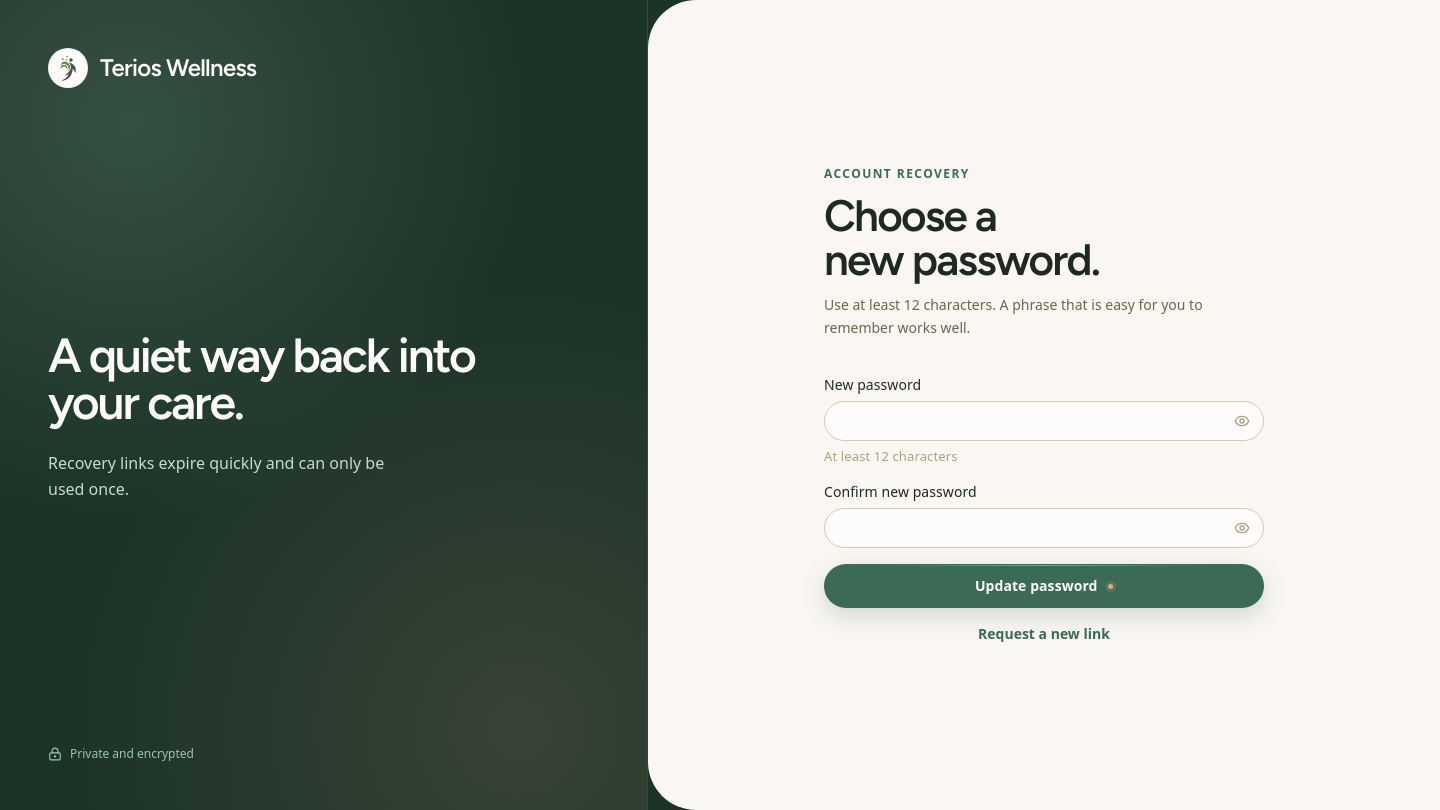
Test: client password reset › refuses a mismatched confirmation
In the password field labelled "New password": point(1044, 421) x1=824 y1=401 x2=1264 y2=441, type "a sufficiently long password"
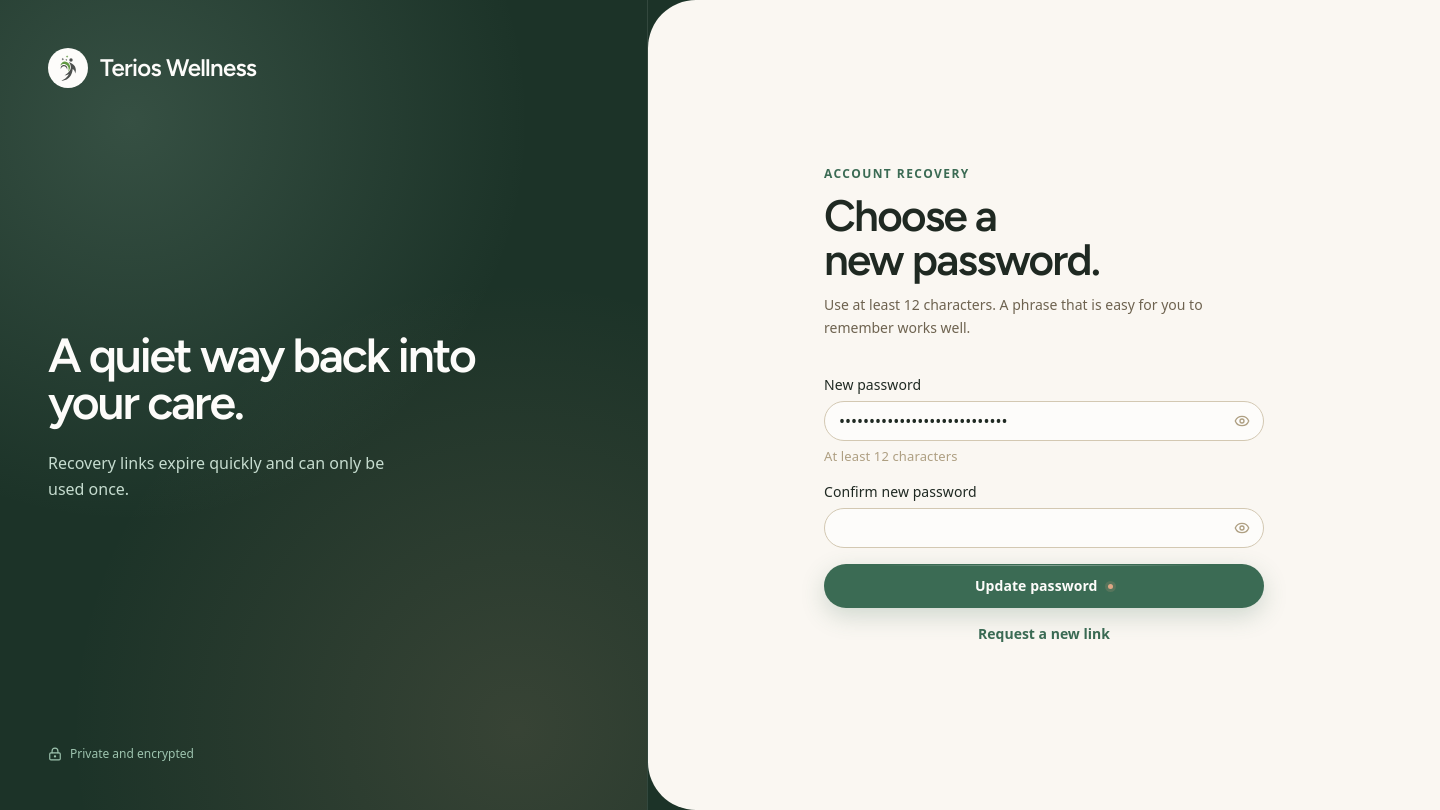
In the password field labelled "Confirm new password": point(1044, 528) x1=824 y1=508 x2=1264 y2=548, type "a different long password"
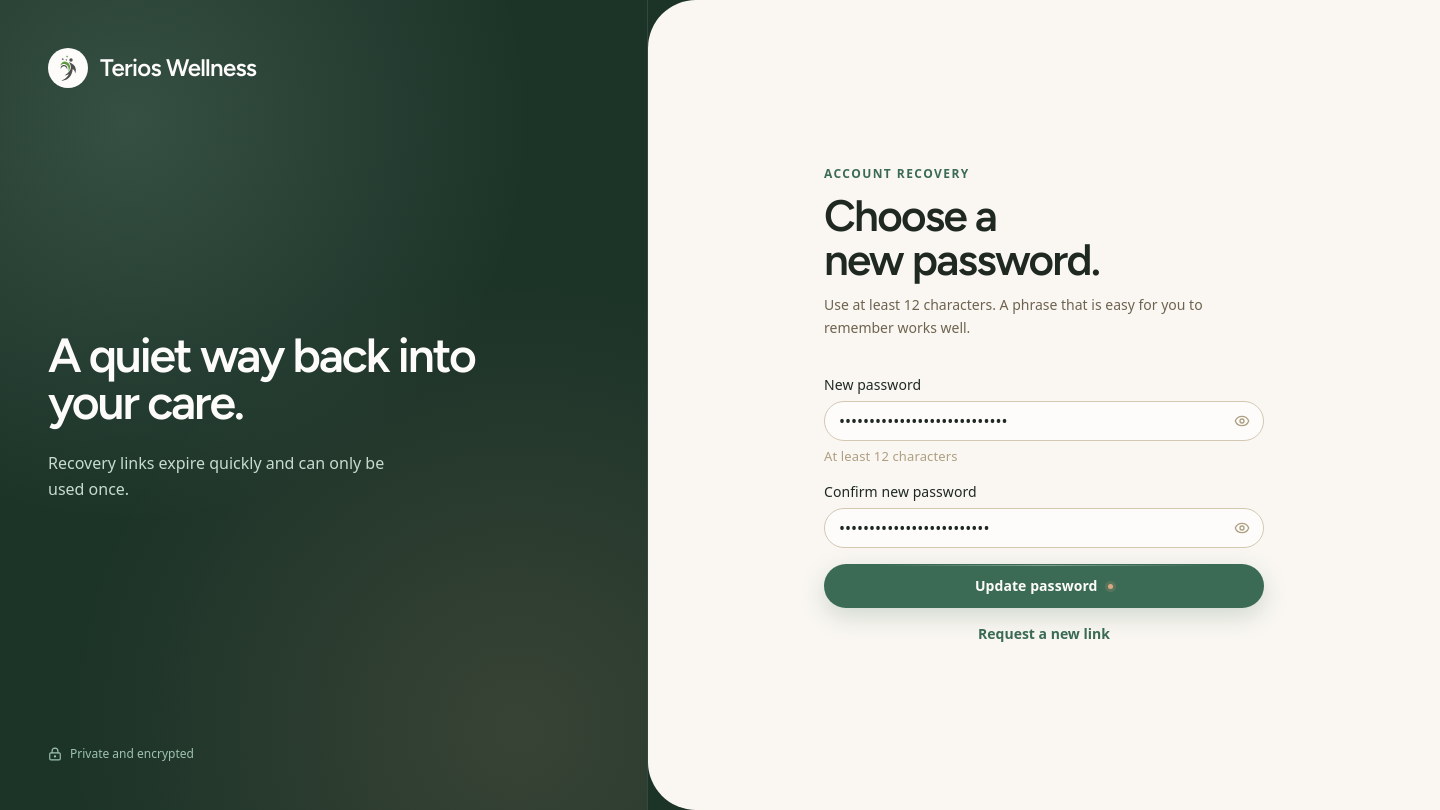
Click the button "Update password": point(1044, 586) x1=824 y1=564 x2=1264 y2=608
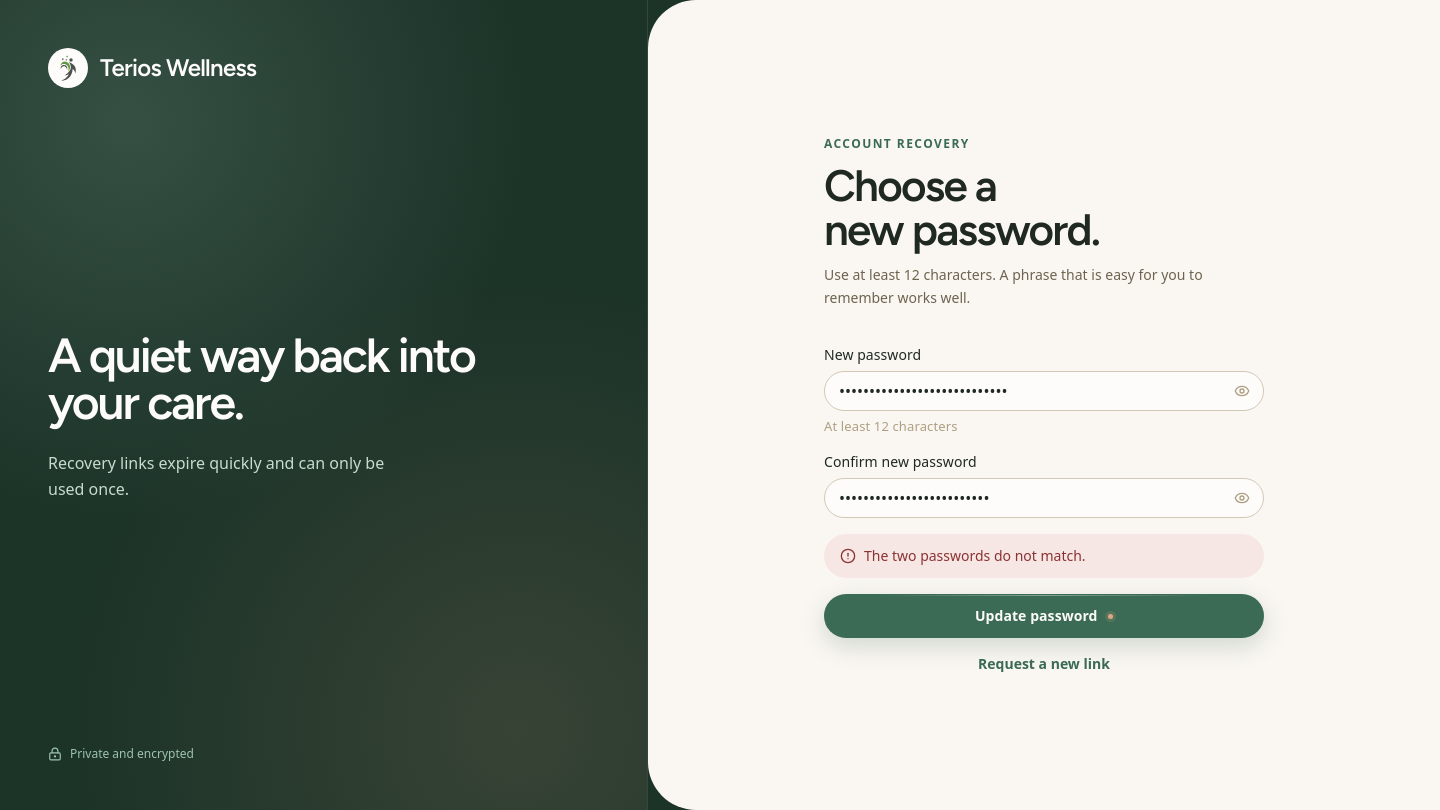
Now the message shows "do not match", box x1=864 y1=546 x2=1086 y2=565
